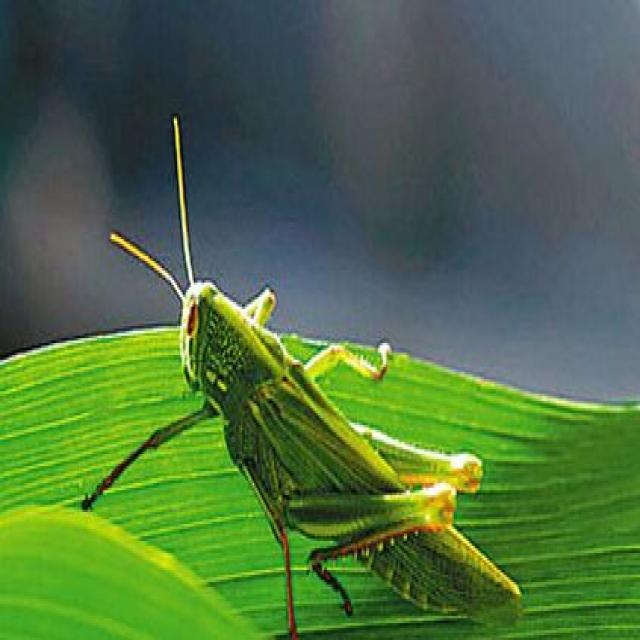ZhaMeng: (103, 215, 528, 621)
